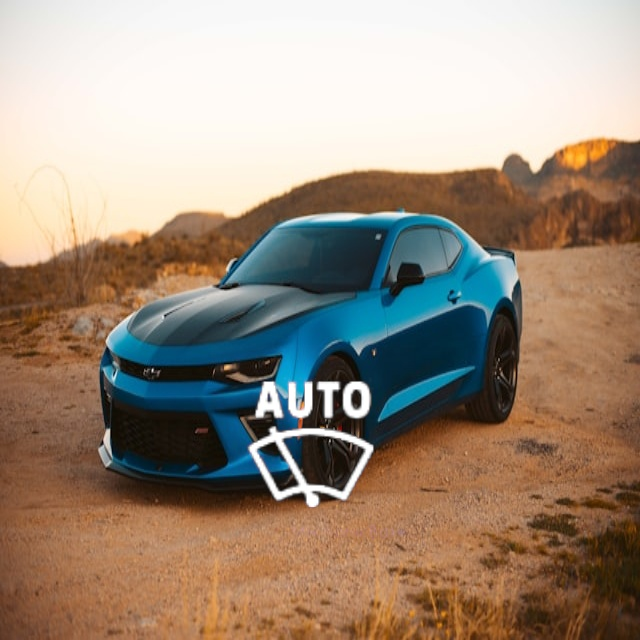symbol: (211, 345, 414, 548)
